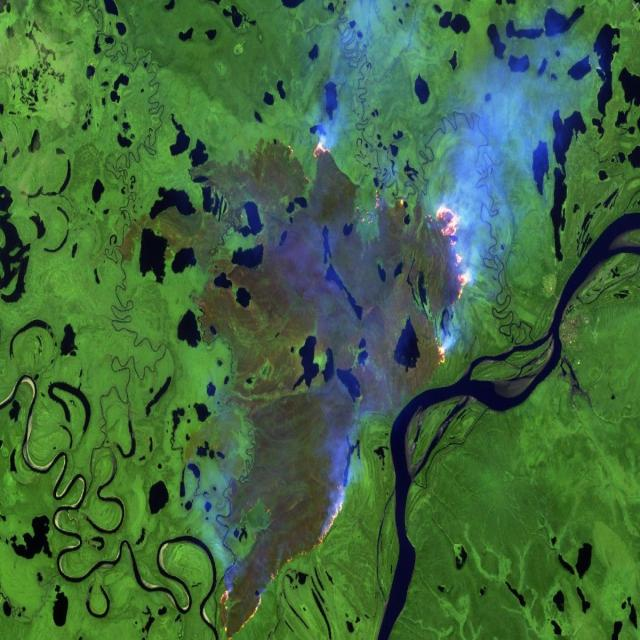fire: (416, 196, 477, 370), (308, 133, 342, 175)
